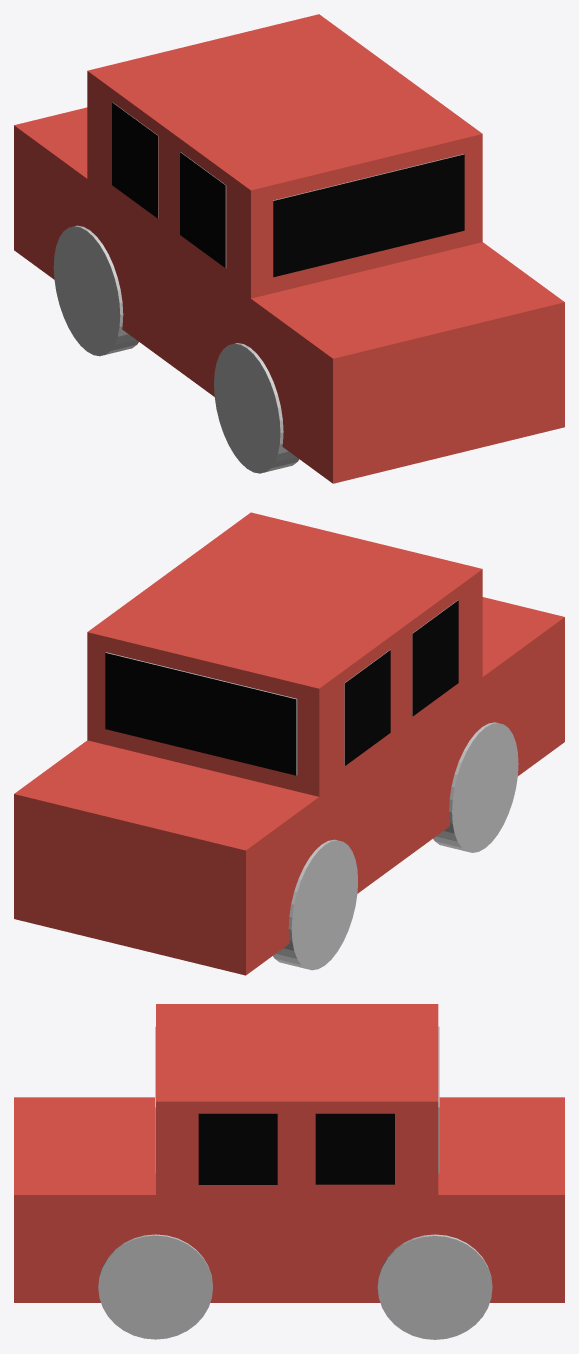
The model's file is car.fbx.
3 views of the same model, one above another, from view 1: azimuth 30°, elevation 25°; view 2: azimuth 150°, elevation 25°; view 3: azimuth 270°, elevation 25° (orthographic). The views are drawn at different scales.
Visible parts, largest first — view 1: Cube; view 2: Cube; view 3: Cube.
Boxes of the visible parts, <box> form: Cube: <box>14,14,564,483</box>; Cube: <box>14,512,564,975</box>; Cube: <box>14,1004,564,1339</box>.
Bounding box in the file's own units: 86.27 × 96.17 × 200.
